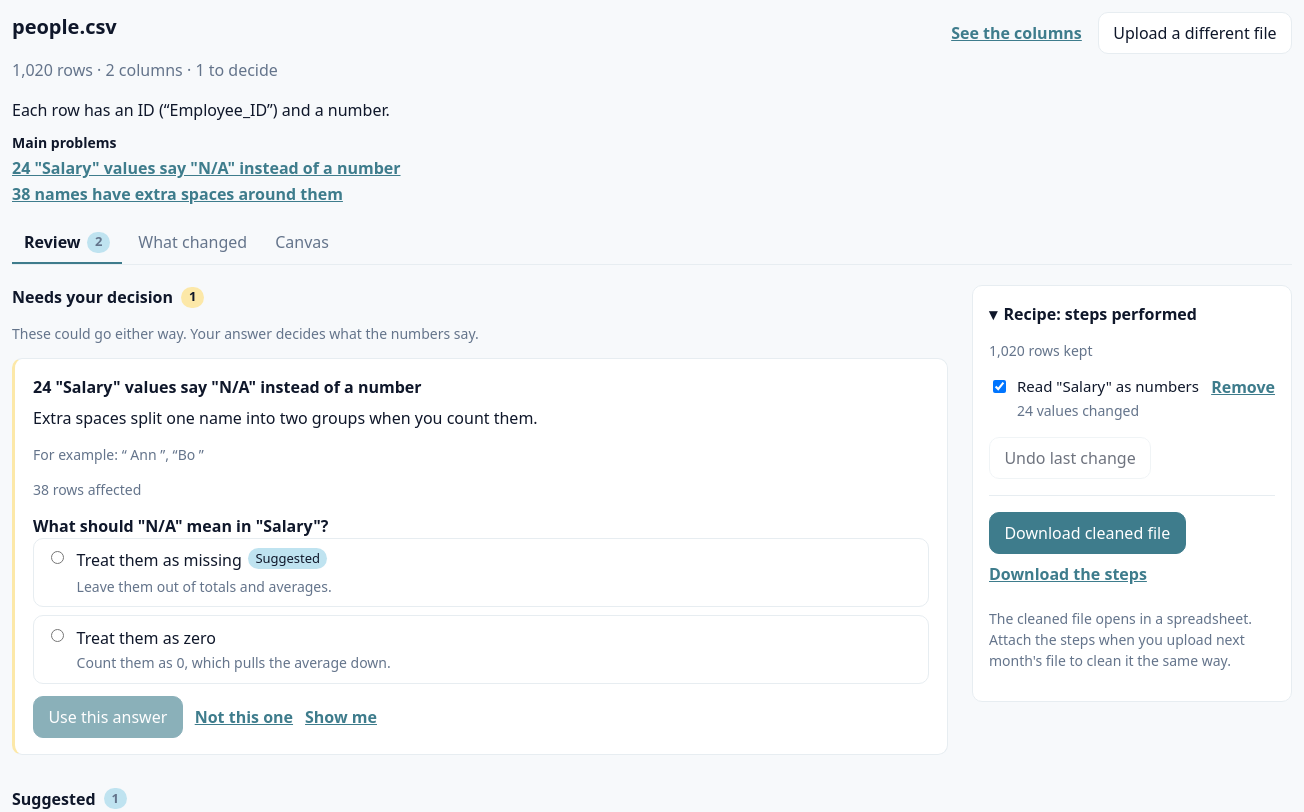
Test: ReviewPage › shows what changed on the other tab, with the recipe still in view
Click the tab "What changed" at (193, 243), box [126, 222, 259, 264]
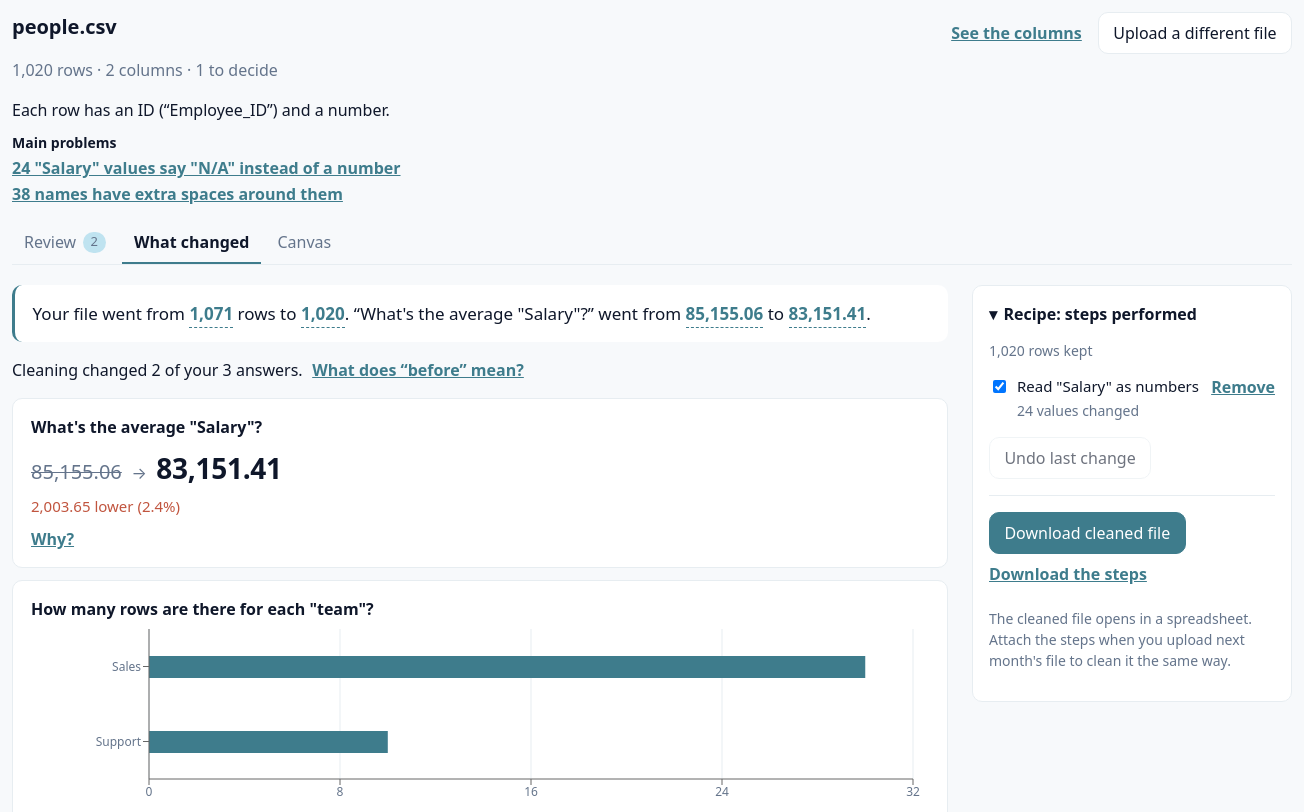
Expected: the text "Read \"Salary\" as numbers" is shown, [1017, 375, 1203, 398]
Expected: the text "Suggested" is gone
